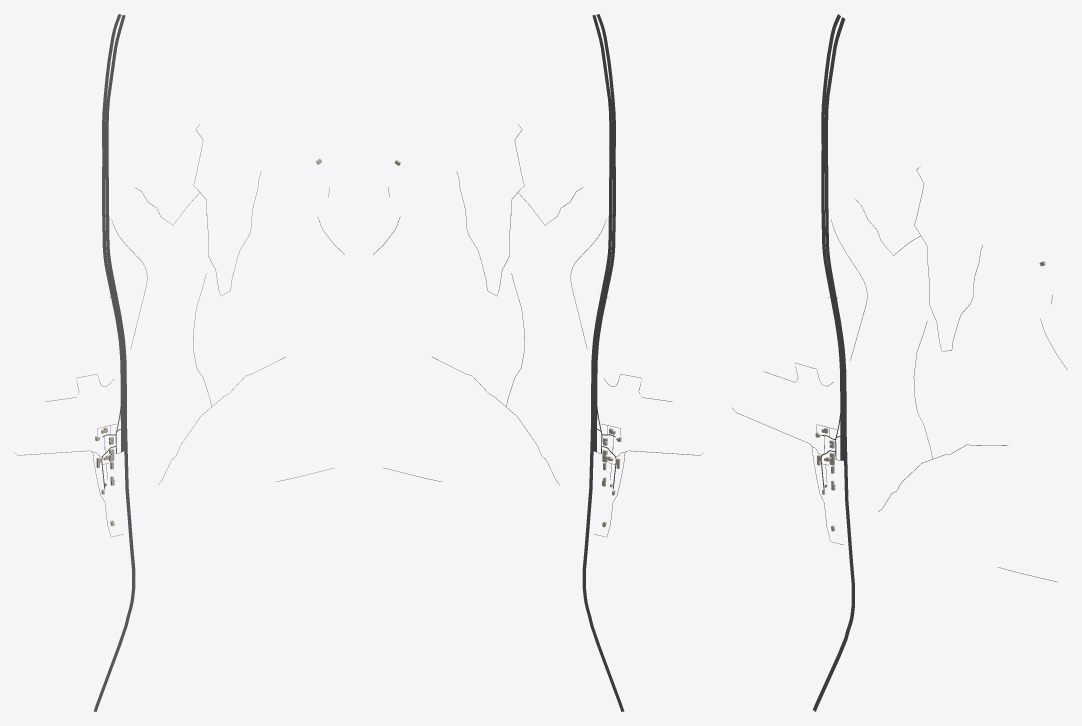
The model's file is historic-palestine-09_22_3513_3163.glb.
3 views of the same model, side by side, from view 1: azimuth 30°, elevation 25°; view 2: azimuth 150°, elevation 25°; view 3: azimuth 330°, elevation 25° (orthographic).
Parts seen in each view (by area): view 1: Road 60, Road 60.001; view 2: Road 60, Road 60.001; view 3: Road 60, Road 60.001.
Part boxes in pixels (x1,y1,x2,y2): Road 60: (93,15,135,711); Road 60.001: (102,14,124,451); Road 60: (582,15,624,711); Road 60.001: (593,14,615,451); Road 60: (813,17,854,711); Road 60.001: (821,14,843,460).
Bounding box in the file's own units: 1188 × 2377 × 8.7.
